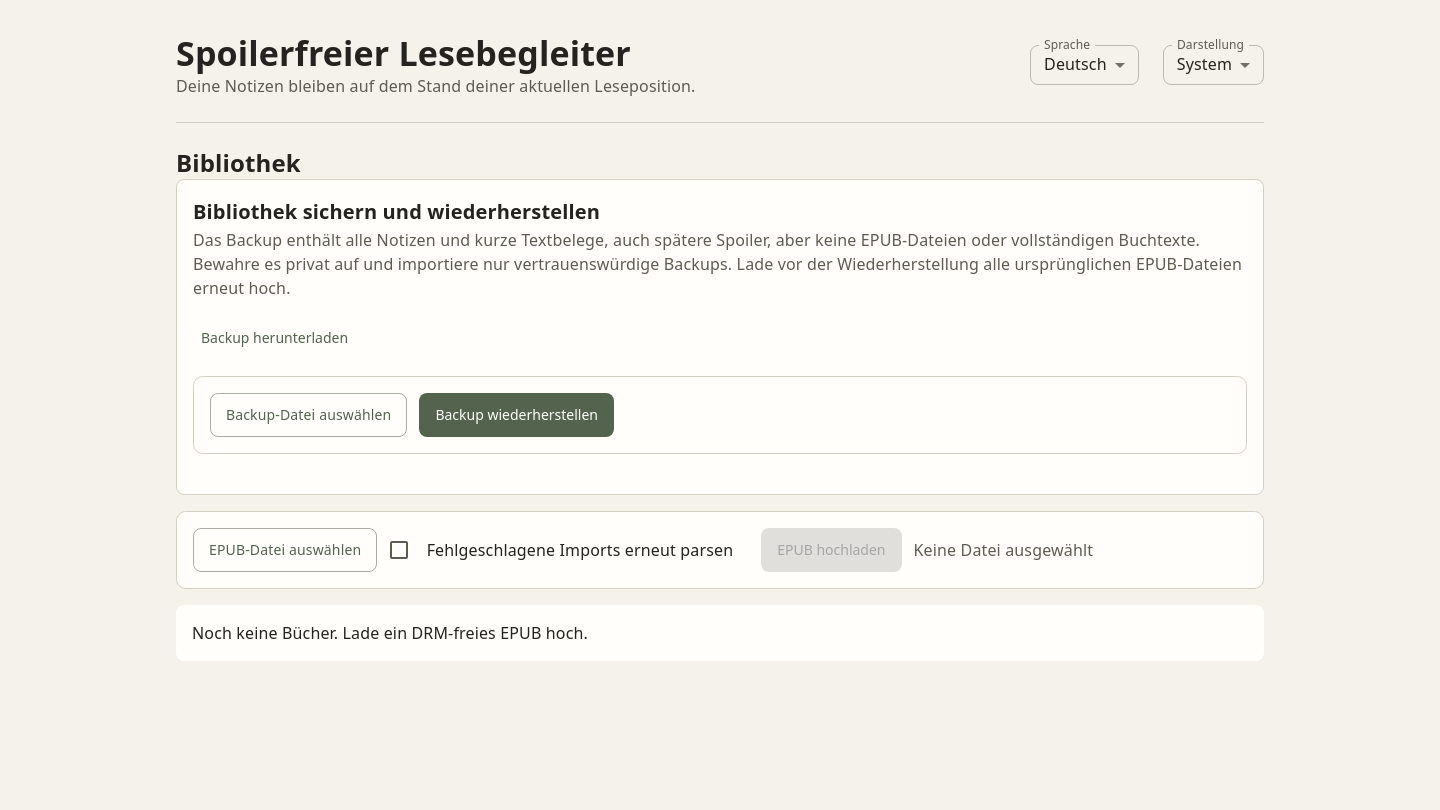
Test case: App › reports backup restore errors without losing the selected file
The width and height of the screenshot is (1440, 810).
Earlier steps of the test are not shown.
Expected: the text "Noch keine Bücher. Lade ein DRM-freies EPUB hoch." is shown, [176,605,1264,661]
Click the button "Backup wiederherstellen": click(517, 415) [419,393,614,437]
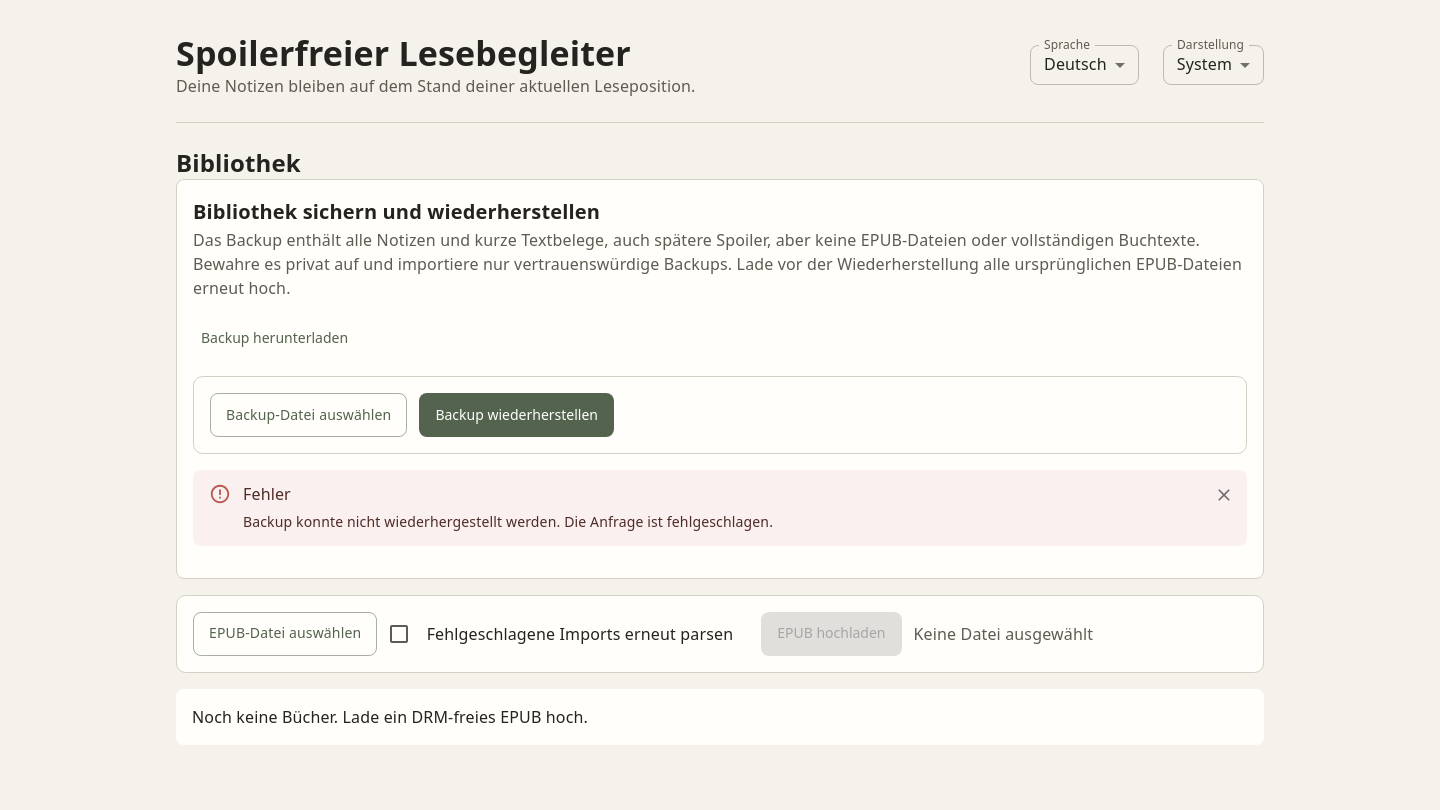
Now the message shows "Backup konnte nicht wiederhergestellt werden.", box [243,512,773,531]
